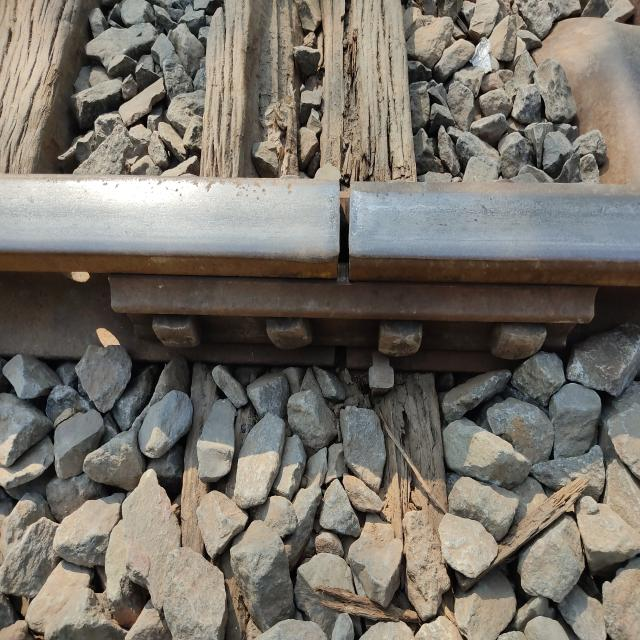defective: (260, 138, 438, 341)
